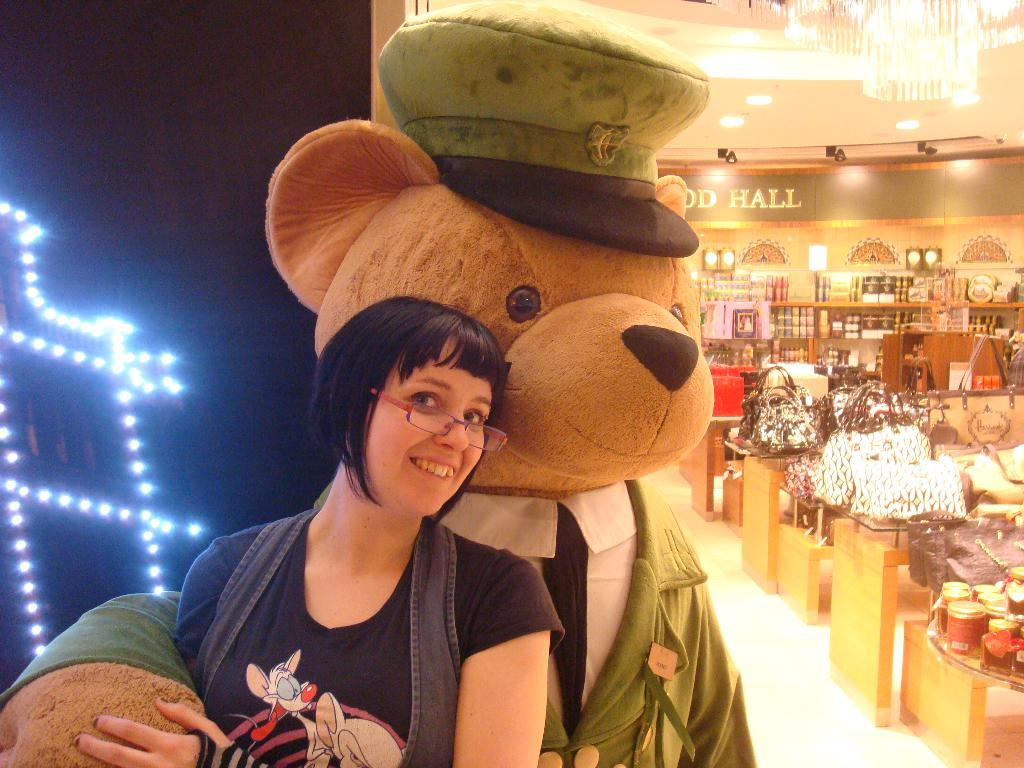Hat: (376, 0, 710, 260)
